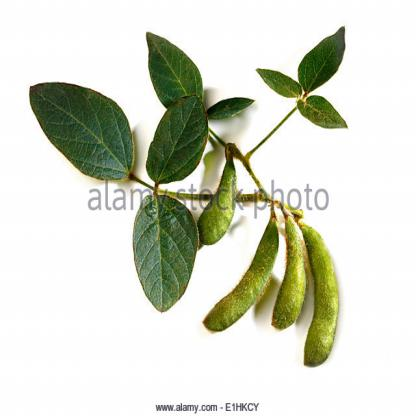Soyabean leaf: (29, 81, 138, 186), (131, 191, 200, 315), (142, 91, 207, 186), (143, 29, 205, 113), (296, 20, 348, 95)
